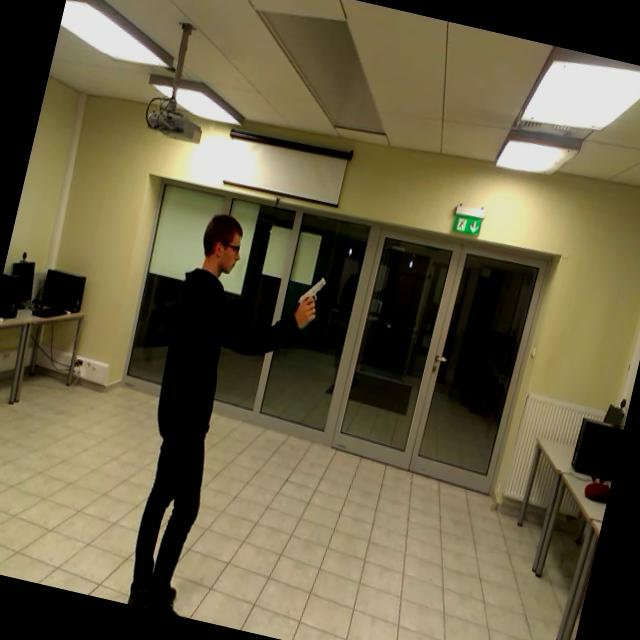handgun: (291, 266, 331, 328)
